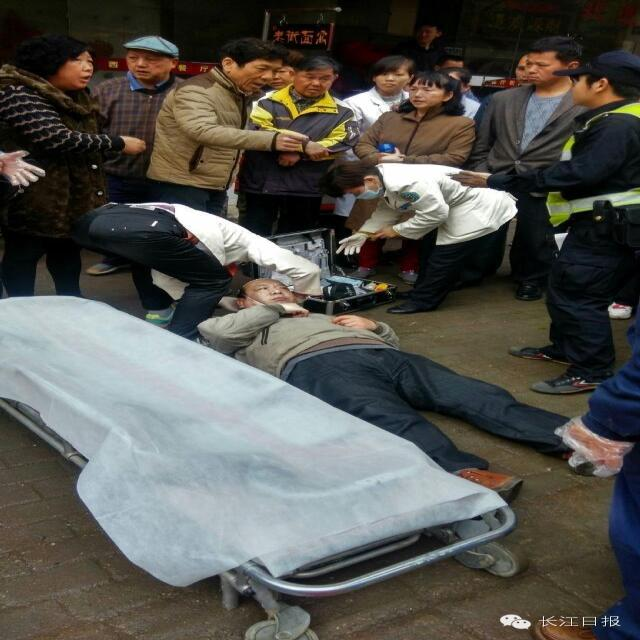10-: (2, 26, 639, 630)
down: (190, 273, 614, 497)
